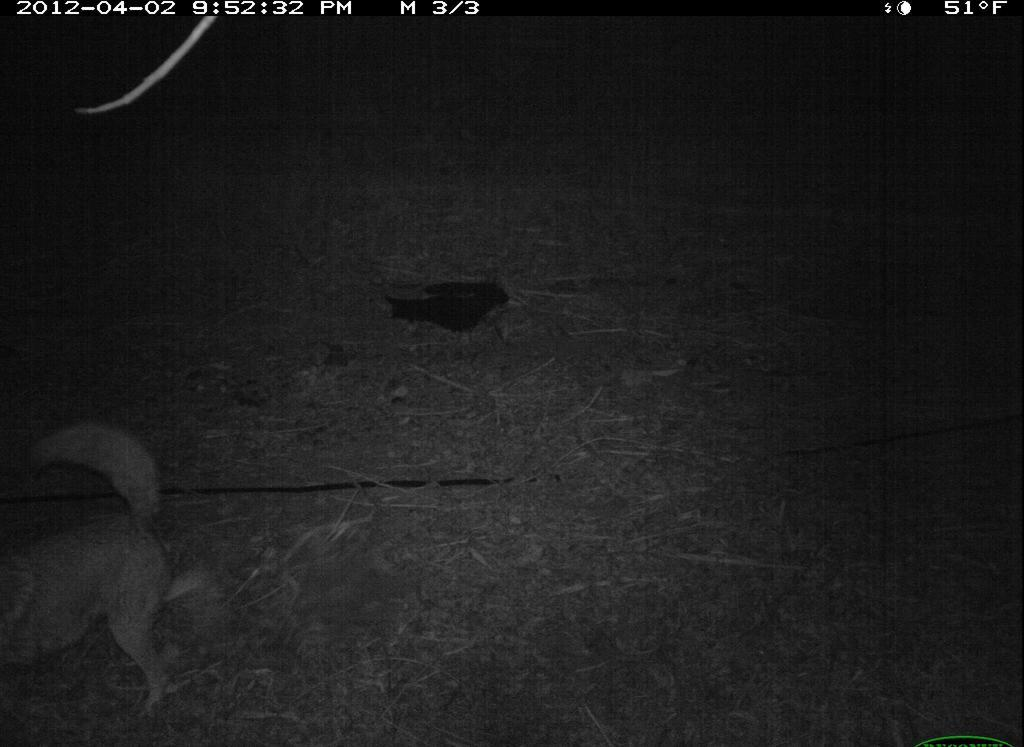coyote: (2, 422, 178, 724)
